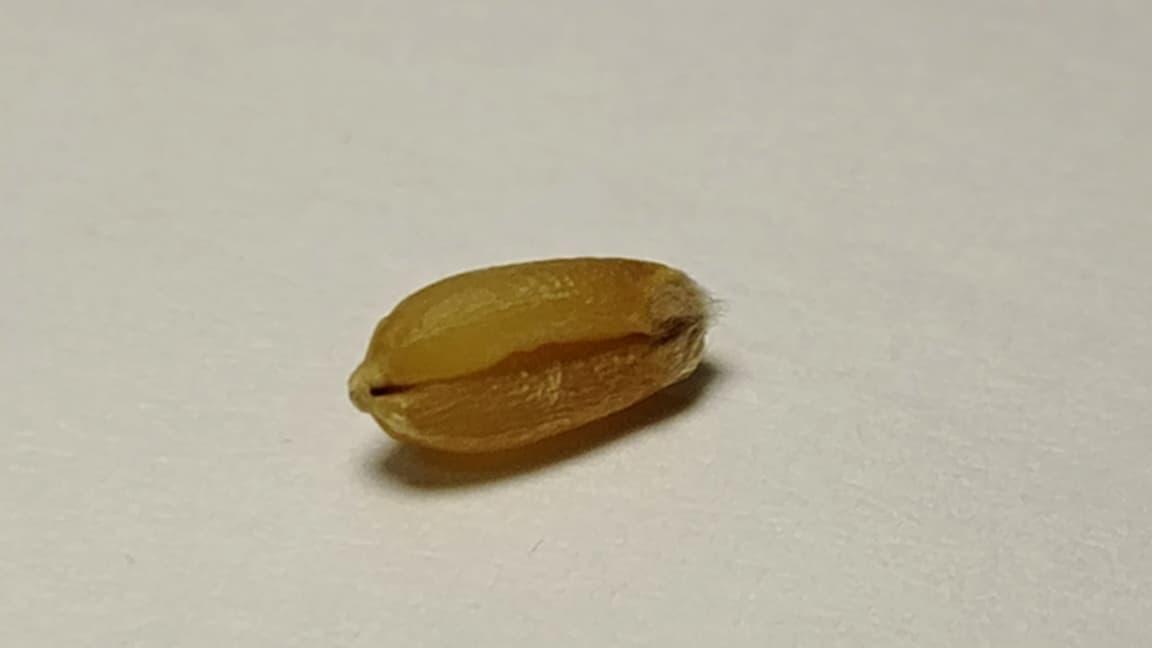healthy: (351, 260, 707, 451)
